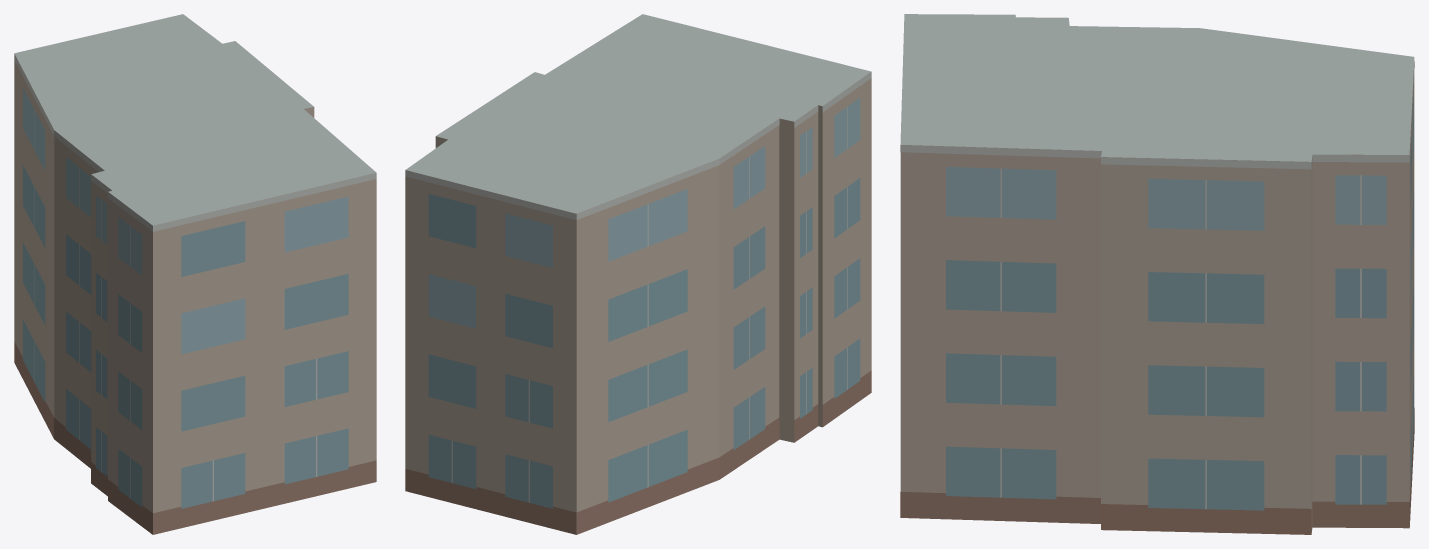
Rendered from survey-upis-32712378.glb.
The picture shows the model from 3 angles, left to right: view 1: azimuth 30°, elevation 25°; view 2: azimuth 150°, elevation 25°; view 3: azimuth 270°, elevation 25°; orthographic projection. The views are drawn at different scales.
Parts seen in each view (by area): view 1: survey-upis-32712378.tmp; view 2: survey-upis-32712378.tmp; view 3: survey-upis-32712378.tmp.
Part boxes in pixels (x1,y1,x2,y2): survey-upis-32712378.tmp: [14, 14, 376, 534]; survey-upis-32712378.tmp: [405, 14, 871, 534]; survey-upis-32712378.tmp: [900, 14, 1414, 534].
Size of the model in its own units: 10.38 by 12.2 by 15.25.
